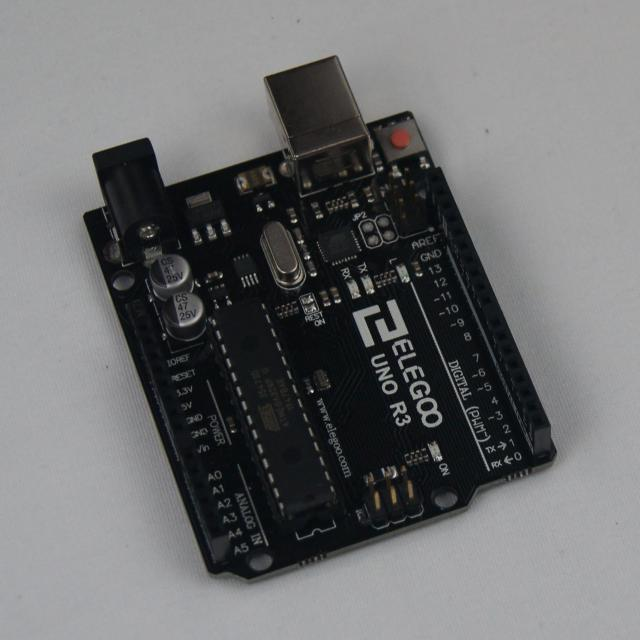Arduino Uno -Black-: (87, 57, 556, 579)
